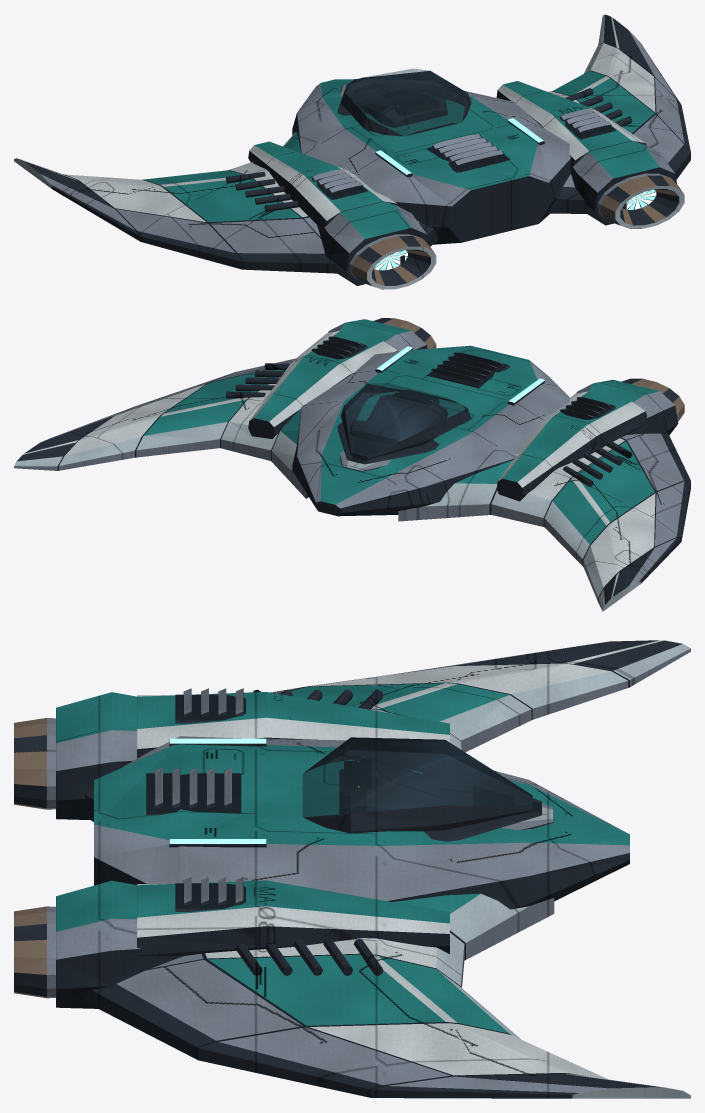
Rendered from manta.glb.
The picture shows the model from 3 angles, top to bottom: view 1: azimuth 30°, elevation 25°; view 2: azimuth 150°, elevation 25°; view 3: azimuth 270°, elevation 25°; orthographic projection. The views are drawn at different scales.
Parts seen in each view (by area): view 1: Airframe; view 2: Airframe; view 3: Airframe.
Part boxes in pixels (<box>): Airframe: <box>14,14,690,289</box>; Airframe: <box>14,318,690,611</box>; Airframe: <box>14,640,690,1098</box>.
Bounding box in the file's own units: 2.94 × 0.427 × 1.88.
Materials: 12 (8 with a texture image).
